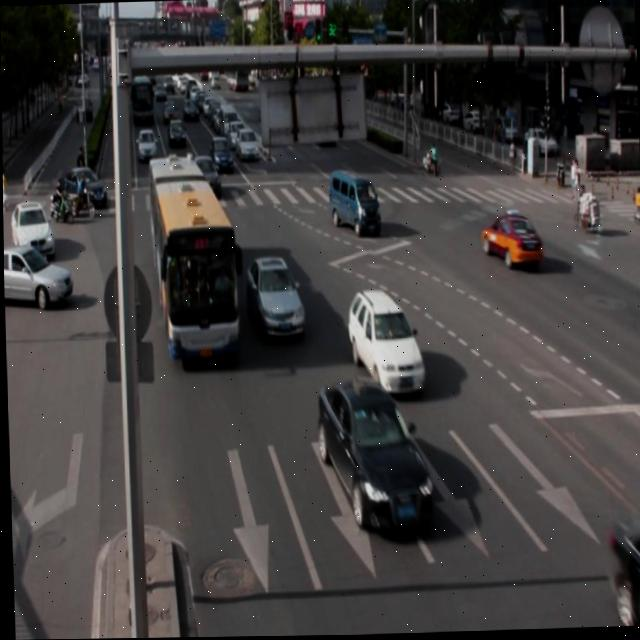car: (315, 372, 431, 532), (344, 286, 423, 393), (245, 251, 303, 338), (479, 208, 541, 267)
truck: (327, 168, 380, 235)
van: (148, 153, 239, 359)
